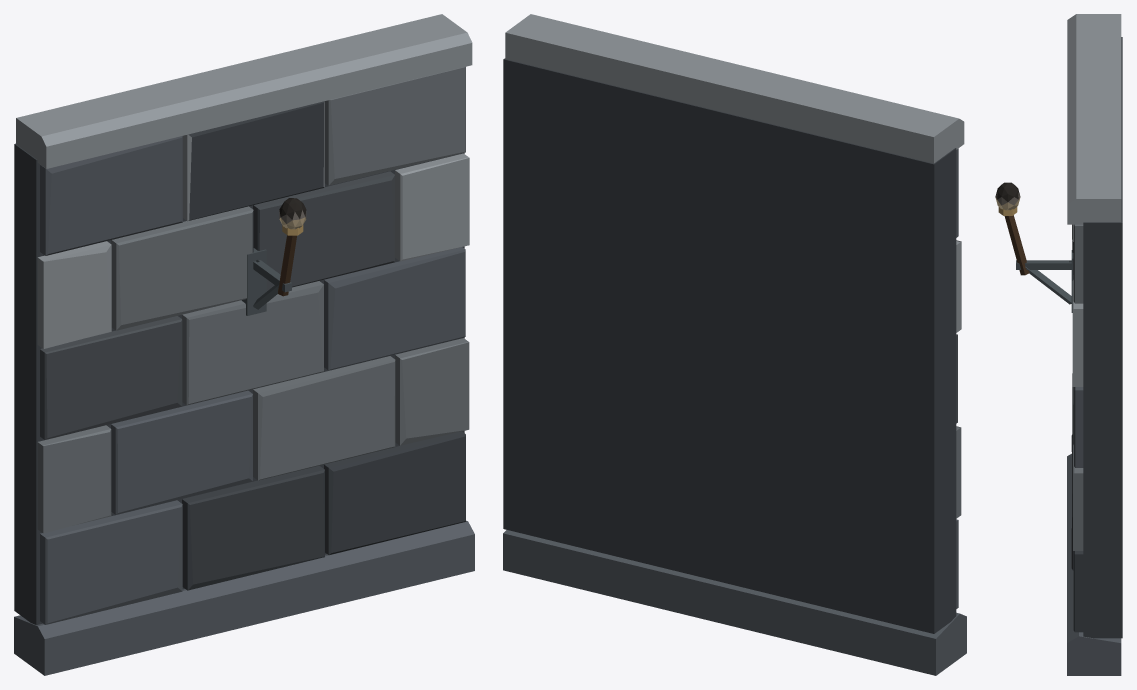
File: mdvl_dungeon_wall_torch_01.glb
3 views of the same model, side by side, from view 1: azimuth 30°, elevation 25°; view 2: azimuth 150°, elevation 25°; view 3: azimuth 270°, elevation 25° (orthographic). The views are drawn at different scales.
Visible parts, largest first — view 1: mdvl_dungeon_wall_torch_01; view 2: mdvl_dungeon_wall_torch_01; view 3: mdvl_dungeon_wall_torch_01.
Part boxes in pixels (x1=…): mdvl_dungeon_wall_torch_01: x1=14, y1=14, x2=474, y2=675; mdvl_dungeon_wall_torch_01: x1=503, y1=14, x2=966, y2=675; mdvl_dungeon_wall_torch_01: x1=995, y1=14, x2=1122, y2=675.
Bounding box in the file's own units: 2.02 × 2.4 × 0.5816.
Materials: 1 (1 with a texture image).
